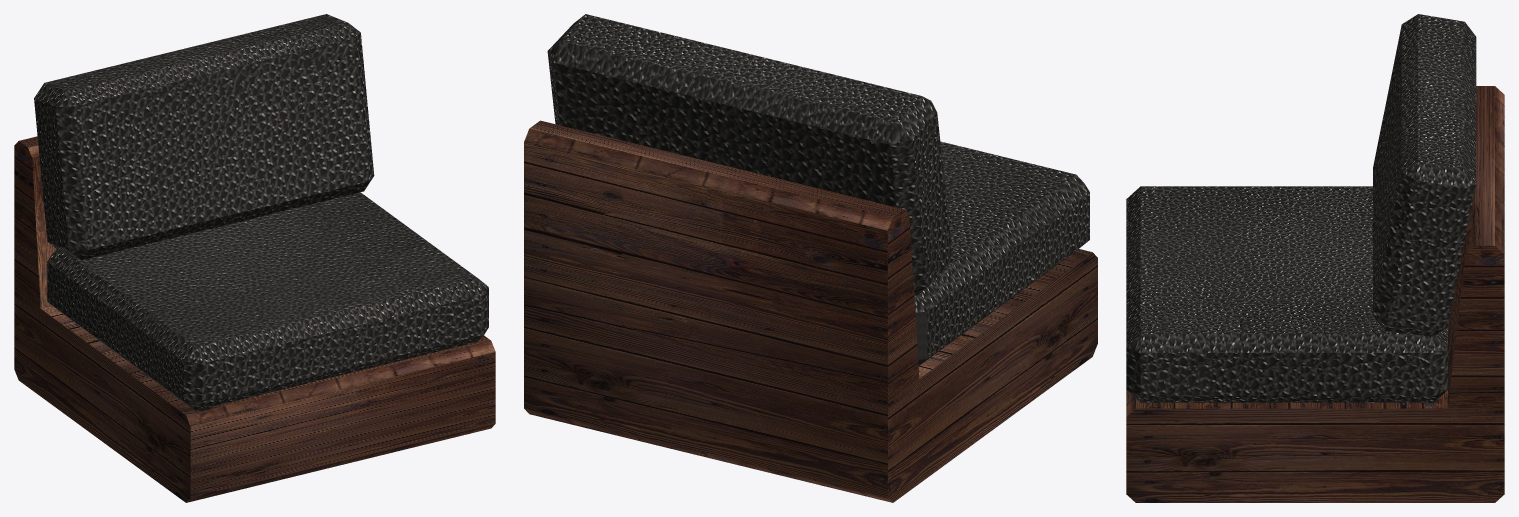
The model's file is sofa_center.glb.
The picture shows the model from 3 angles, left to right: view 1: azimuth 30°, elevation 25°; view 2: azimuth 150°, elevation 25°; view 3: azimuth 270°, elevation 25°; orthographic projection. The views are drawn at different scales.
Parts seen in each view (by area): view 1: object1.001, object3, object2; view 2: object2, object3, object1.001; view 3: object1.001, object2, object3.
Boxes of the visible parts, x1,y1,x2,y2 form: object1.001: (47, 192, 488, 410); object3: (34, 14, 374, 260); object2: (14, 136, 495, 502); object2: (524, 120, 1097, 502); object3: (547, 14, 953, 295); object1.001: (914, 141, 1089, 365); object1.001: (1126, 186, 1447, 402); object2: (1126, 86, 1504, 502); object3: (1373, 14, 1476, 336).
Size of the model in its own units: 1 by 0.9777 by 1.
Materials: 2 (2 with a texture image).
